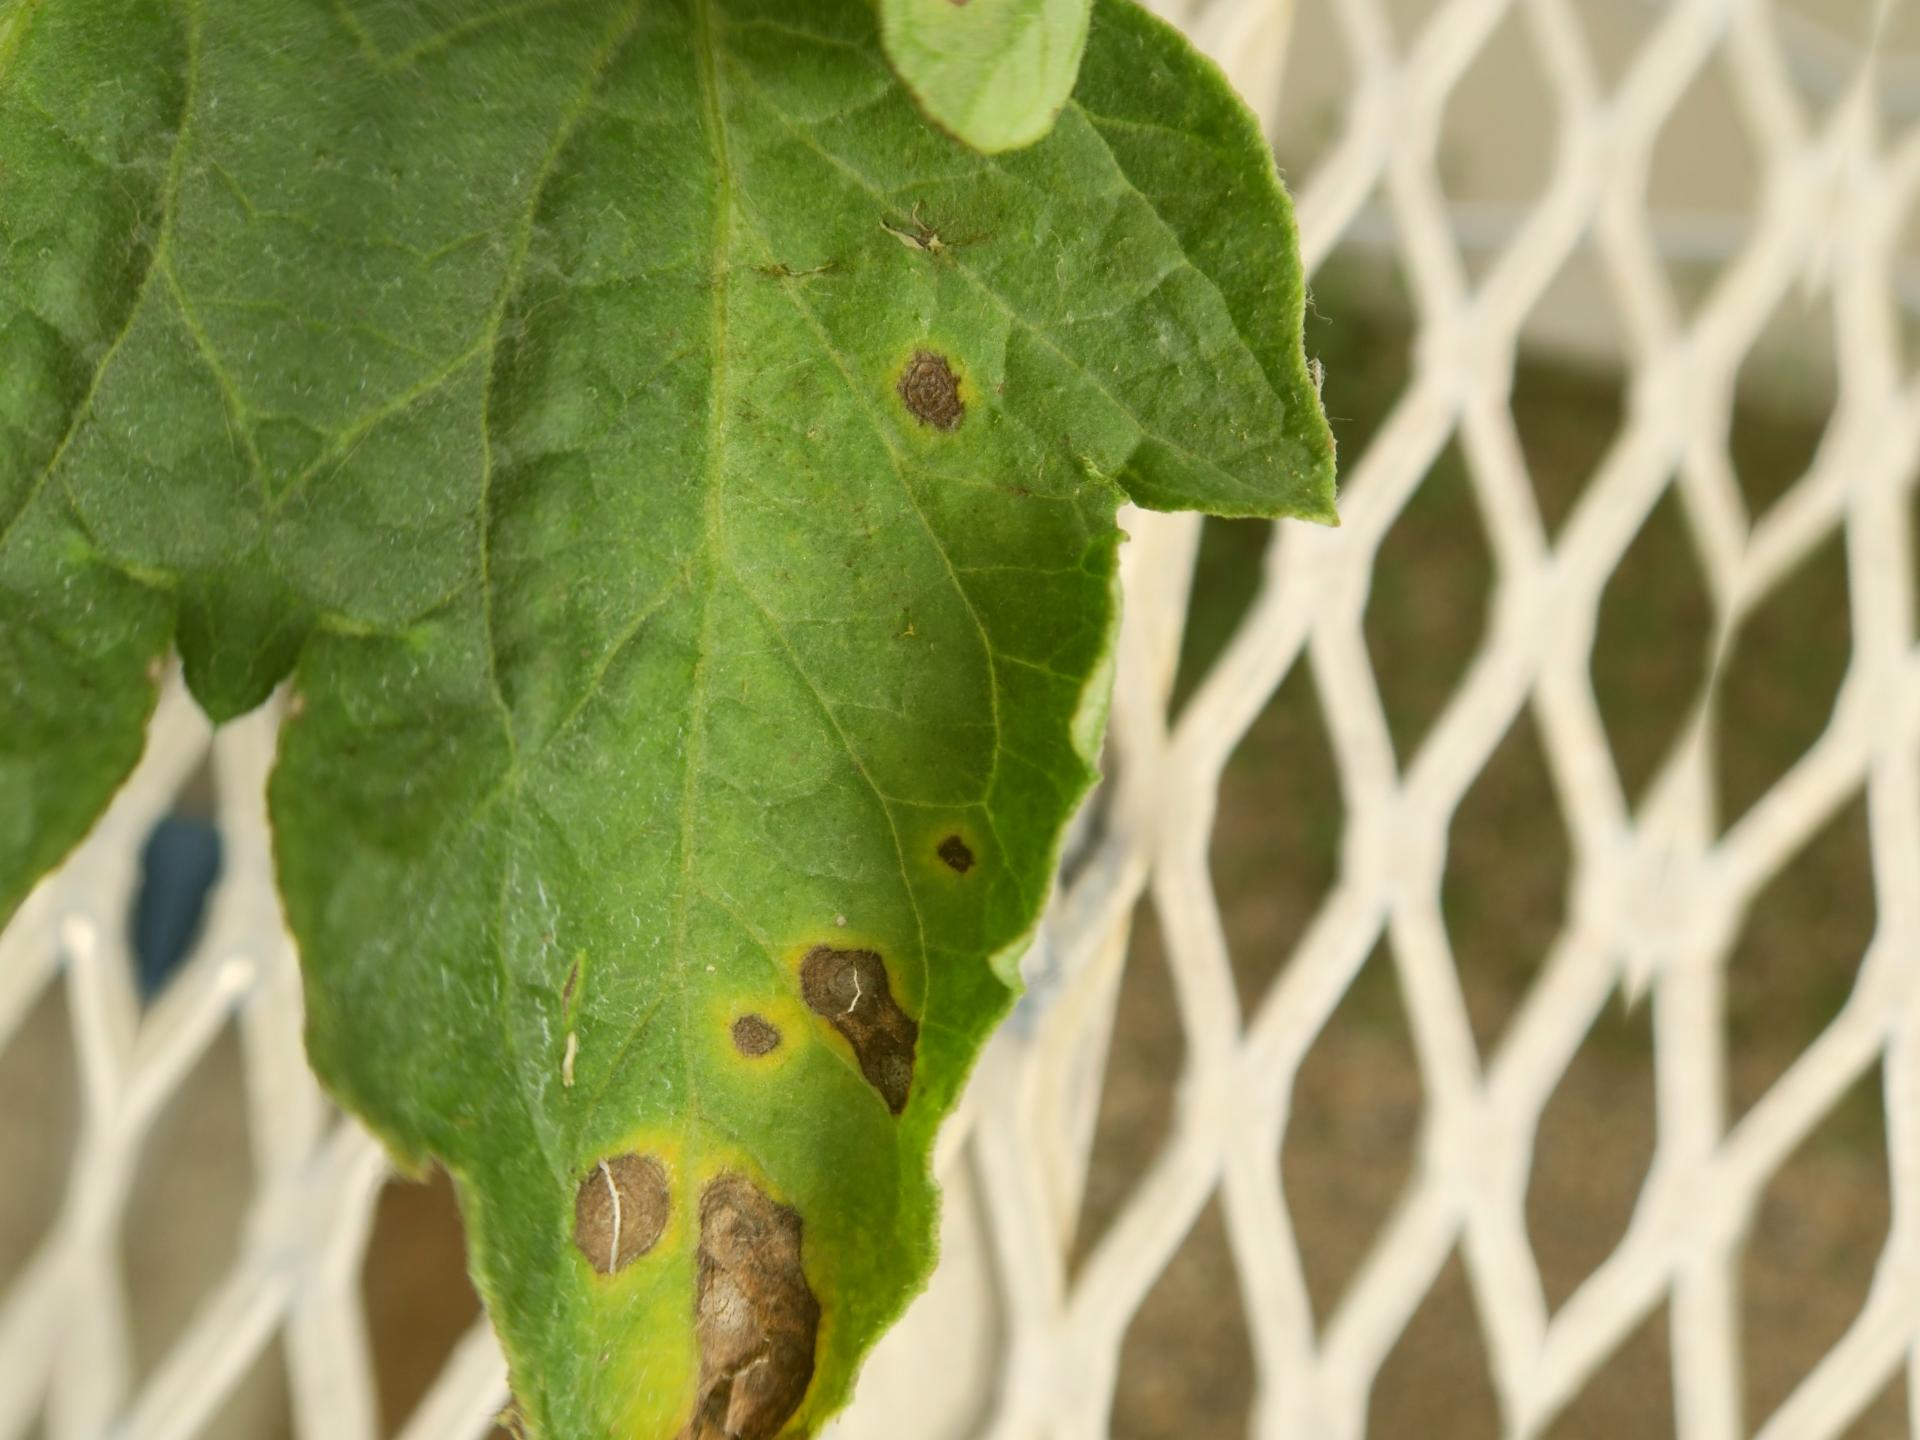Tomato Early blight leaf: (85, 0, 1483, 1440)
